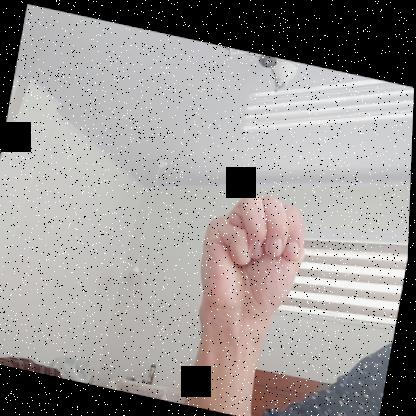M: (190, 176, 316, 328)
